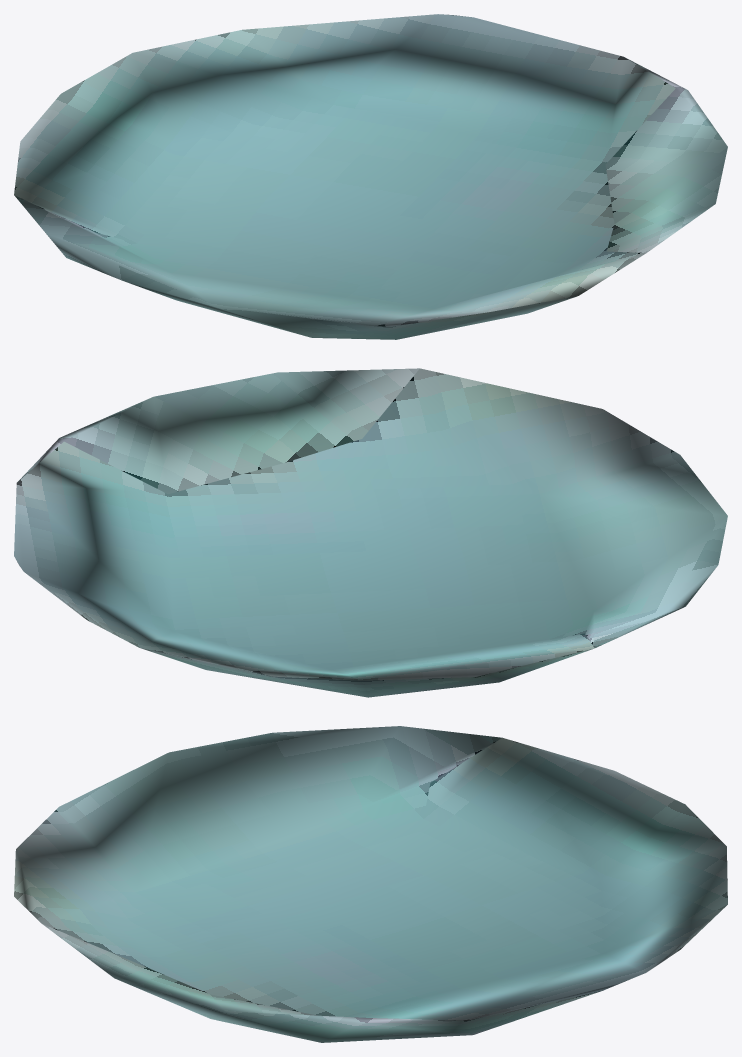
The model's file is Room_Essentials_Salad_Plate_Turquoise-low.glb.
3 views of the same model, one above another, from view 1: azimuth 30°, elevation 25°; view 2: azimuth 150°, elevation 25°; view 3: azimuth 270°, elevation 25° (orthographic).
Visible parts, largest first — view 1: Room_Essentials_Salad_Plate_Turquoise; view 2: Room_Essentials_Salad_Plate_Turquoise; view 3: Room_Essentials_Salad_Plate_Turquoise.
Boxes of the visible parts, bbox=[...] form: Room_Essentials_Salad_Plate_Turquoise: bbox=[14, 14, 727, 339]; Room_Essentials_Salad_Plate_Turquoise: bbox=[14, 368, 727, 697]; Room_Essentials_Salad_Plate_Turquoise: bbox=[14, 726, 727, 1042].
Size of the model in its own units: 0.2207 by 0.027 by 0.2185.
1 material, 1 textured.
